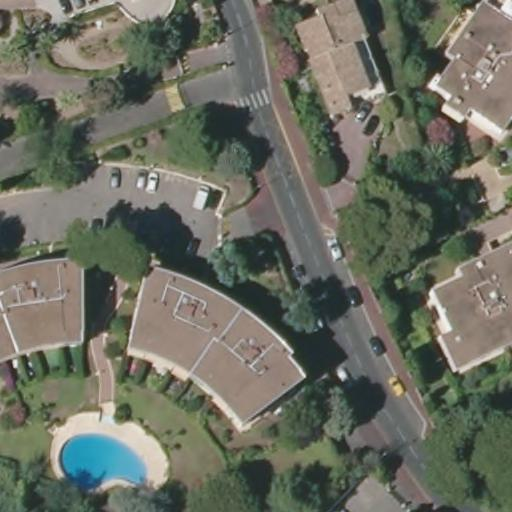pool: (55, 429, 150, 490)
